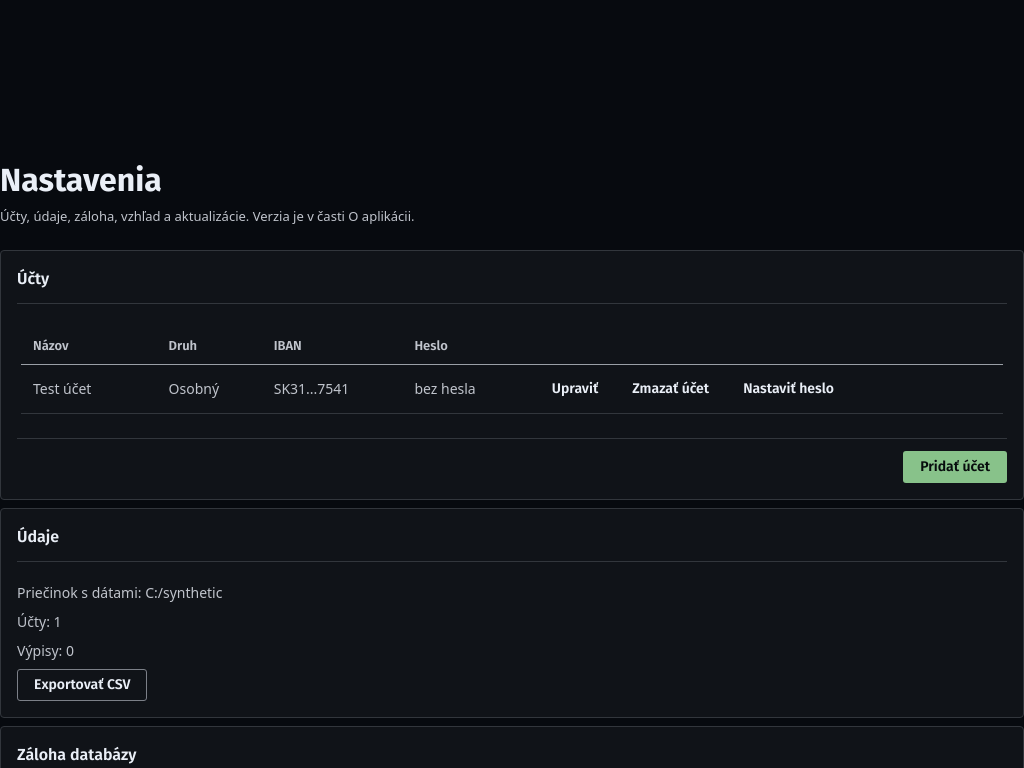
Test: account deletion from its Settings row › shows preview failure and permits retry without ever deleting
The image size is (1024, 768).
(page scrolled)
Click the button "Zmazať účet". click: (671, 389)
box: [615,373,726,405]
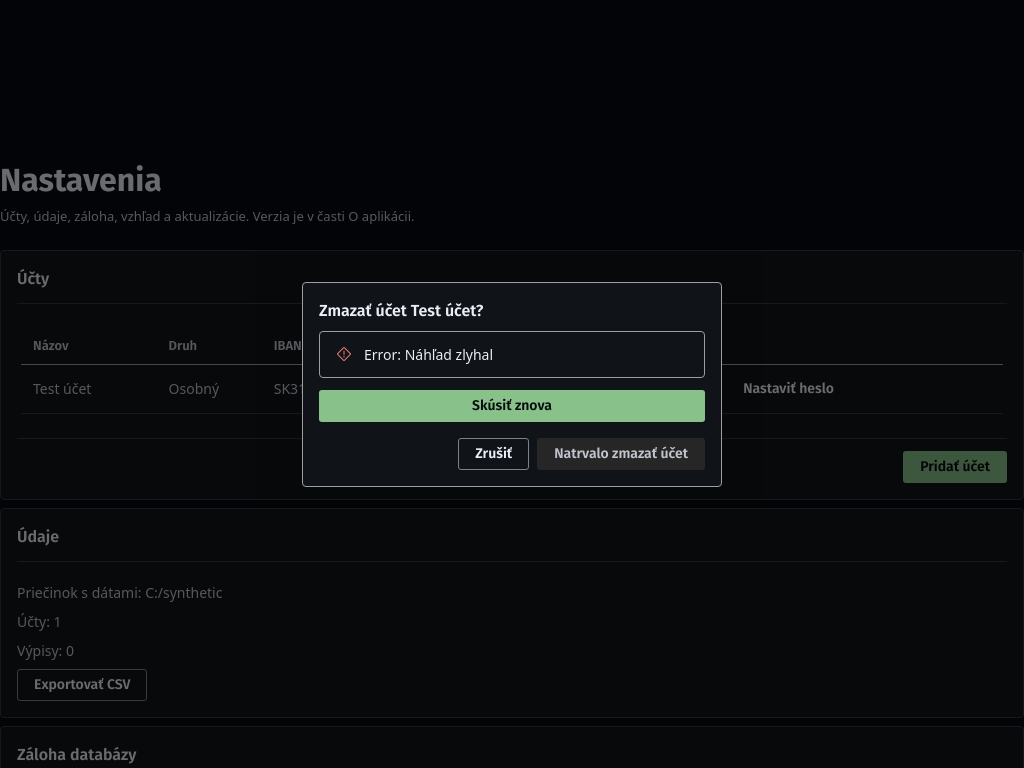
Check: the message shows "Náhľad zlyhal", box [364,344,493,364]
Click the button "Skúsiť znova". click: (512, 406)
box: [319,390,705,422]
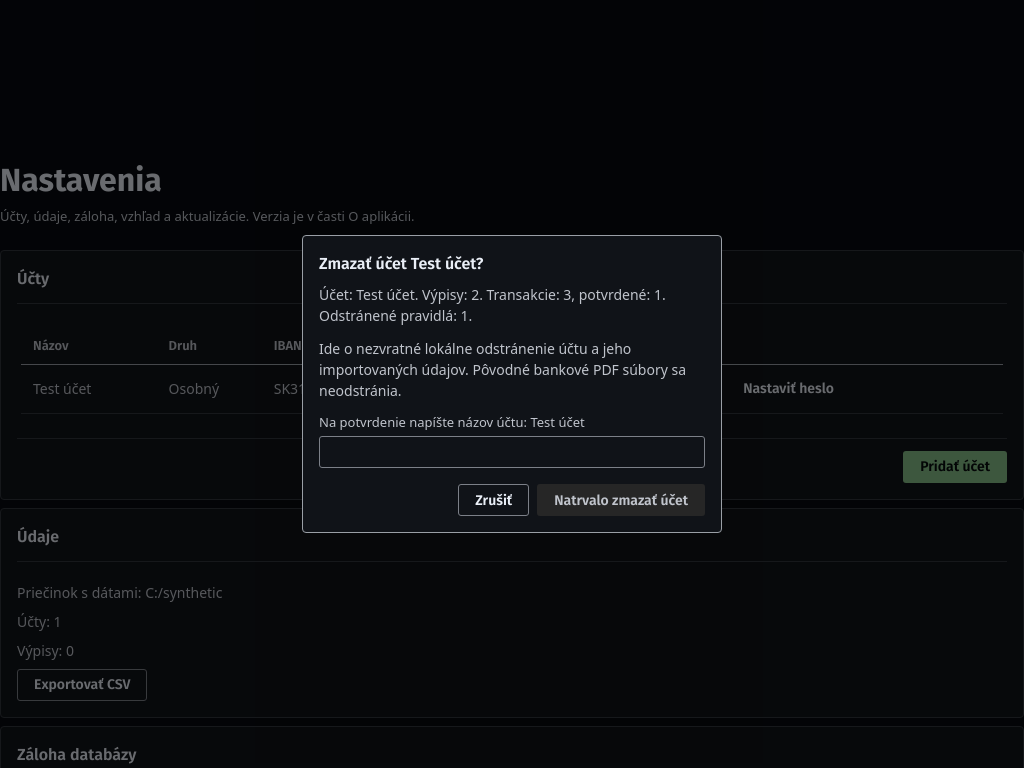
Check: the field labelled "Na potvrdenie napíšte názov účtu: Test účet" is enabled, box [319,436,705,468]
